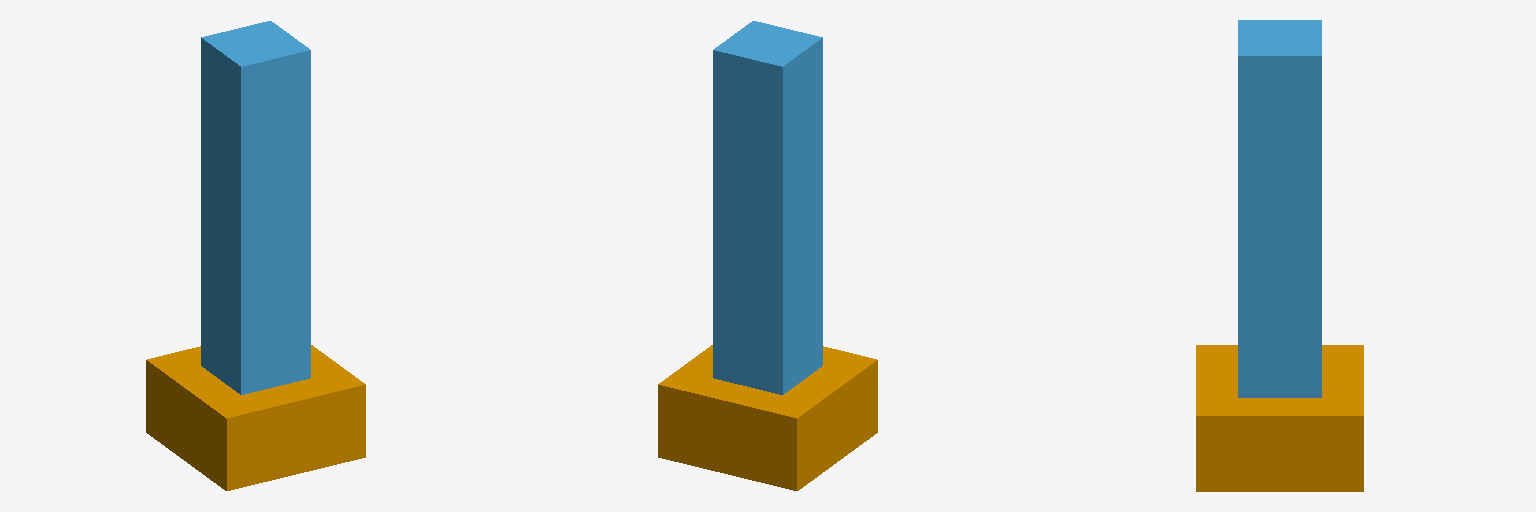
URDF robot description (arm1):
<?xml version="1.0"?>
<robot name="arm1" xmlns:xacro="http://www.ros.org/wiki/xacro">

  <!-- Base Link -->
  <link name="base_link">
    <visual>
      <geometry>
        <box size="0.2 0.2 0.1"/>
      </geometry>
    </visual>
    <collision>
      <geometry>
        <box size="0.2 0.2 0.1"/>
      </geometry>
    </collision>
  </link>

  <!-- Arm Link -->
  <link name="arm_link">
    <visual>
      <geometry>
        <box size="0.1 0.1 0.5"/>
      </geometry>
    </visual>
    <collision>
      <geometry>
        <box size="0.1 0.1 0.5"/>
      </geometry>
    </collision>
  </link>

  <!-- Joint between base and arm -->
  <joint name="base_to_arm" type="revolute">
    <parent link="base_link"/>
    <child link="arm_link"/>
    <origin rpy="0 0 0" xyz="0 0 0.25"/>
    <axis xyz="0 0 1"/>
    <limit effort="10" velocity="1.0" lower="0" upper="1.57"/>
  </joint>

</robot>

--- What the picture shows (computed from the rendered views, not written in the file) ---
The picture shows the robot from 3 angles, left to right: view 1: azimuth 30°, elevation 25°; view 2: azimuth 150°, elevation 25°; view 3: azimuth 270°, elevation 25°; orthographic projection.
Robot: arm1 — 2 links, 1 joints (1 revolute); root link base_link; default pose: every joint at zero.
Links seen in each view (by area): view 1: arm_link, base_link; view 2: arm_link, base_link; view 3: arm_link, base_link.
Boxes of the visible links, x1,y1,x2,y2 form: arm_link: [201, 21, 310, 394]; base_link: [146, 345, 365, 490]; arm_link: [713, 21, 822, 394]; base_link: [658, 345, 877, 490]; arm_link: [1238, 20, 1321, 397]; base_link: [1196, 345, 1363, 491].
Bounding box of the posed robot: 0.2 × 0.2 × 0.55 m (x, y, z).
Geometry: primitives only (box / cylinder / sphere), no mesh files.